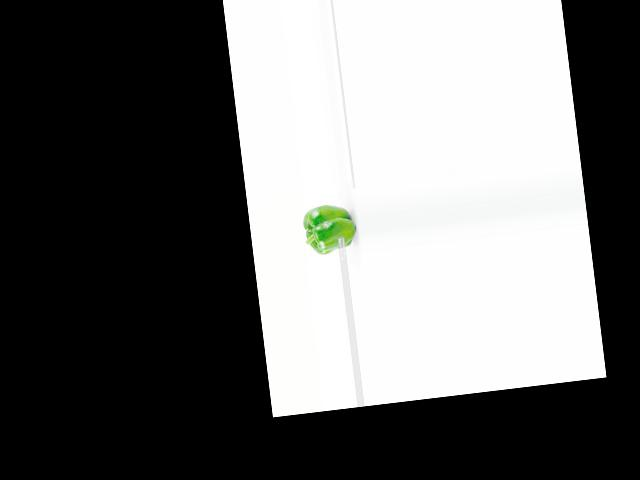bell_pepper: (298, 199, 360, 256)
